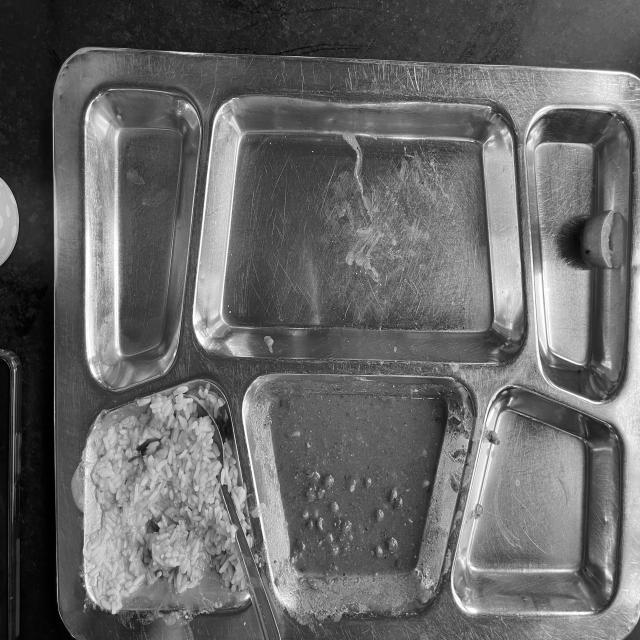20-Food-Left: (70, 64, 634, 627)
